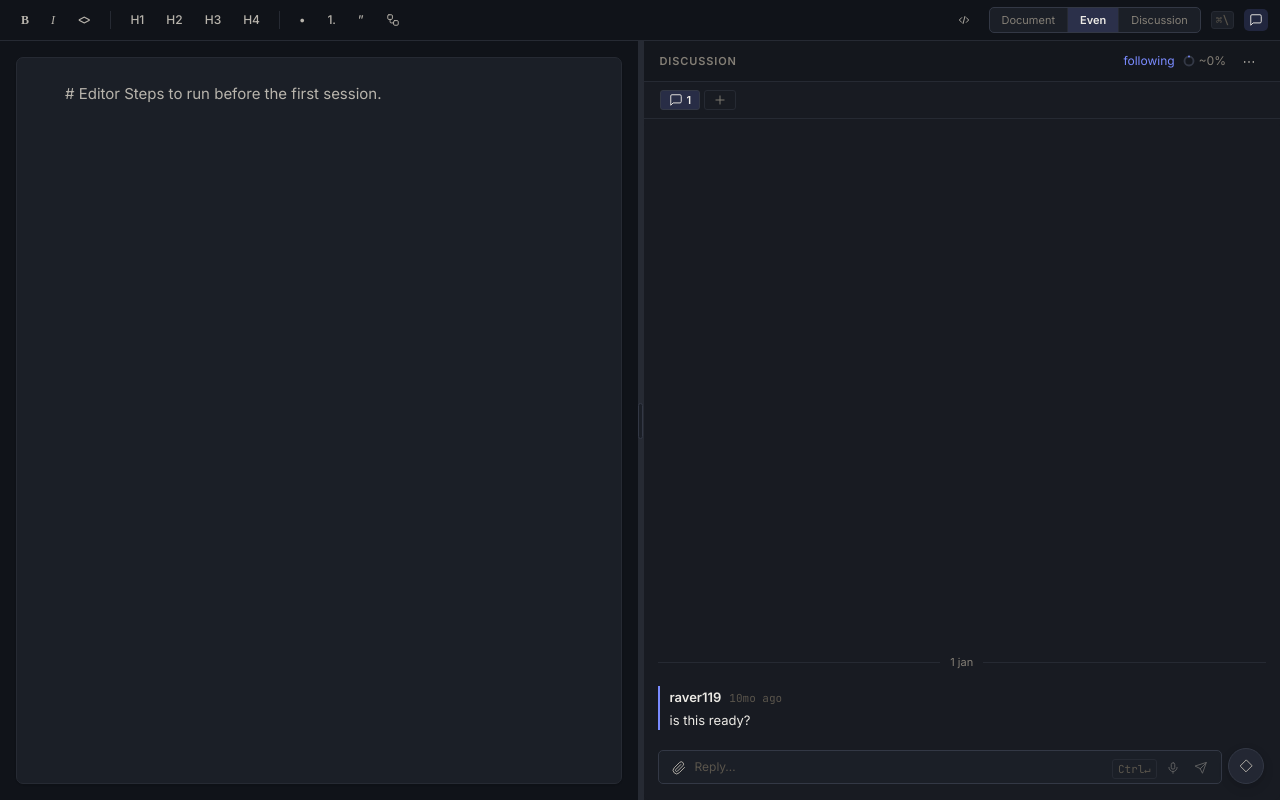
Test: ACT-FR-BRZK: Discuss acts on the discussion column › ACT-FR-BRZK, DDS-FR-JWNC: with a discussion, Discuss puts the caret in its reply composer
Expected: the button named "Actions" is shown, 1228,748 -> 1264,784
Expected: the element with test id "comment-thread-d1" is shown, 644,119 -> 1279,799
Step 1. Click the button with test id "editor-discussion-toggle" → (1256, 20), box 1244,9 -> 1268,31
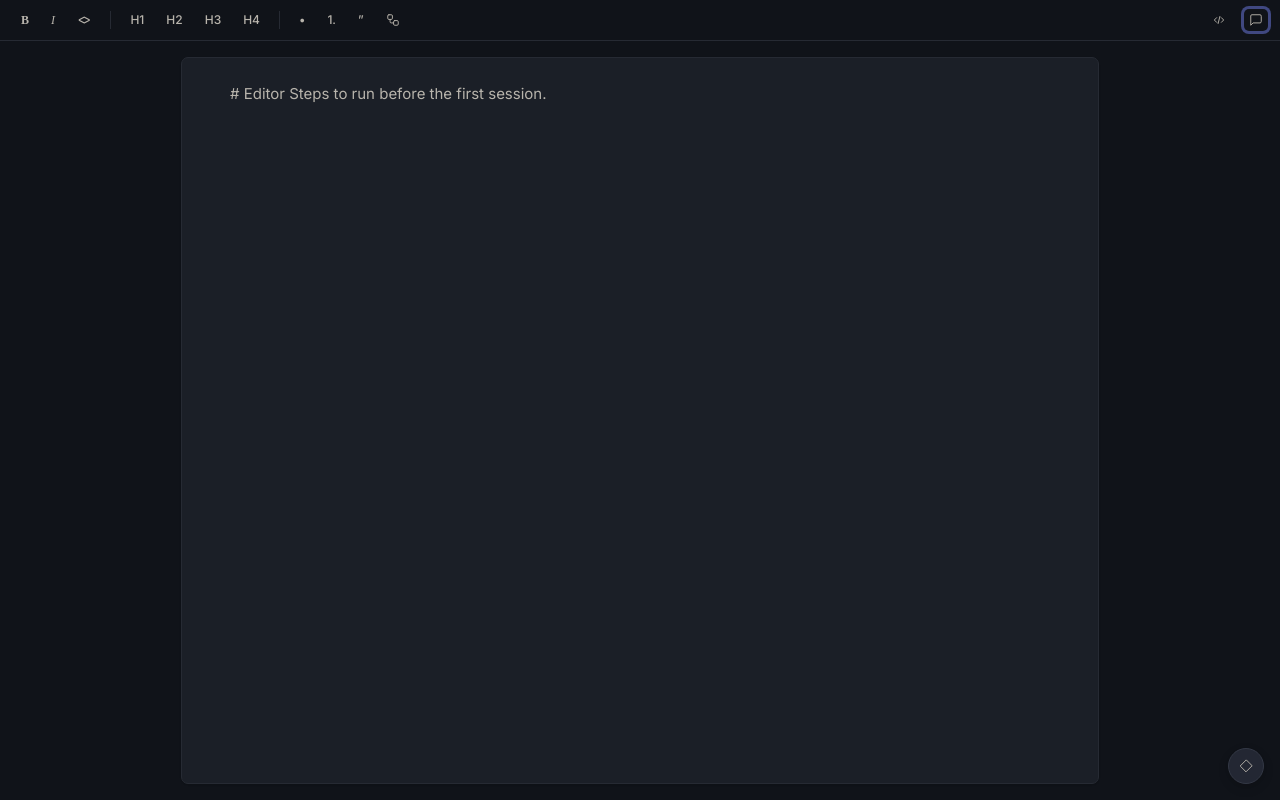
Result: the element with test id "editor-discussion-column" is gone
Step 2. Click the button named "Actions" → (1246, 766), box 1228,748 -> 1264,784
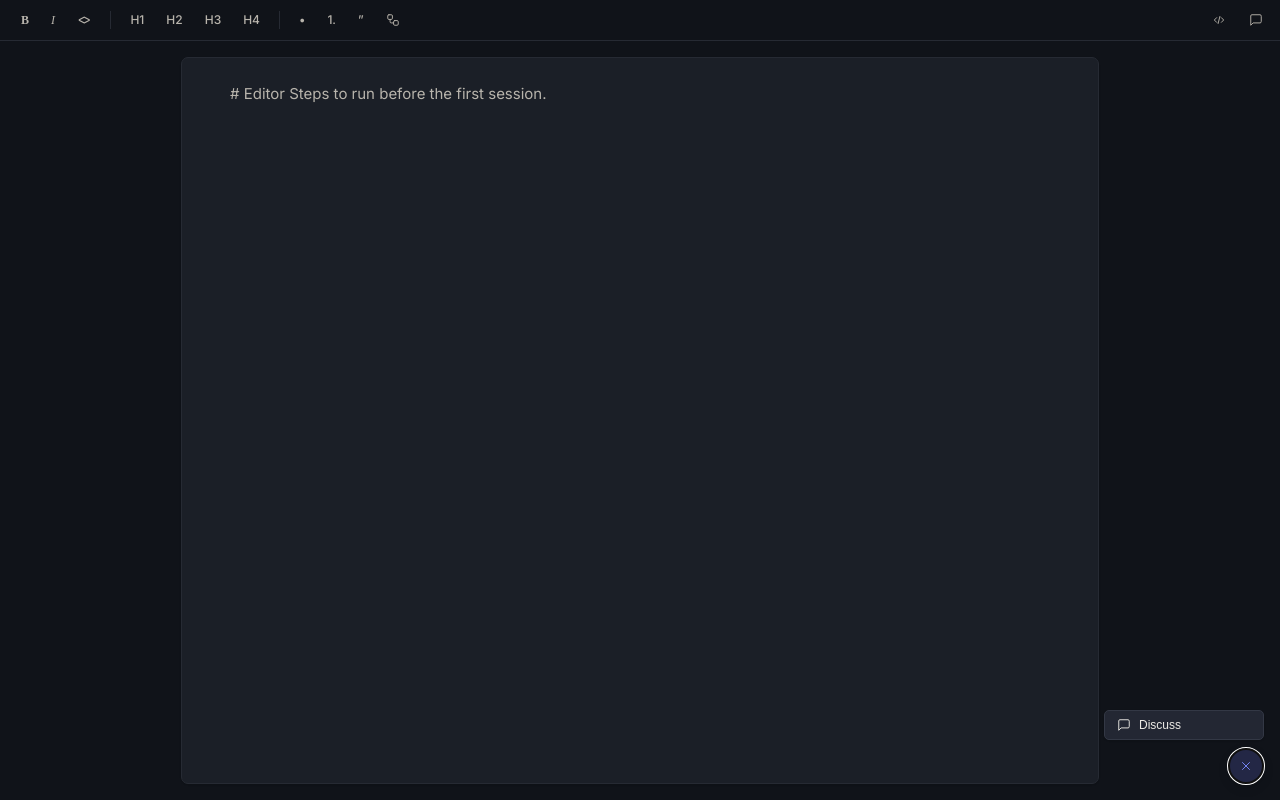
Step 3. Click the menu item "Discuss" → (1184, 725), box 1104,710 -> 1264,740
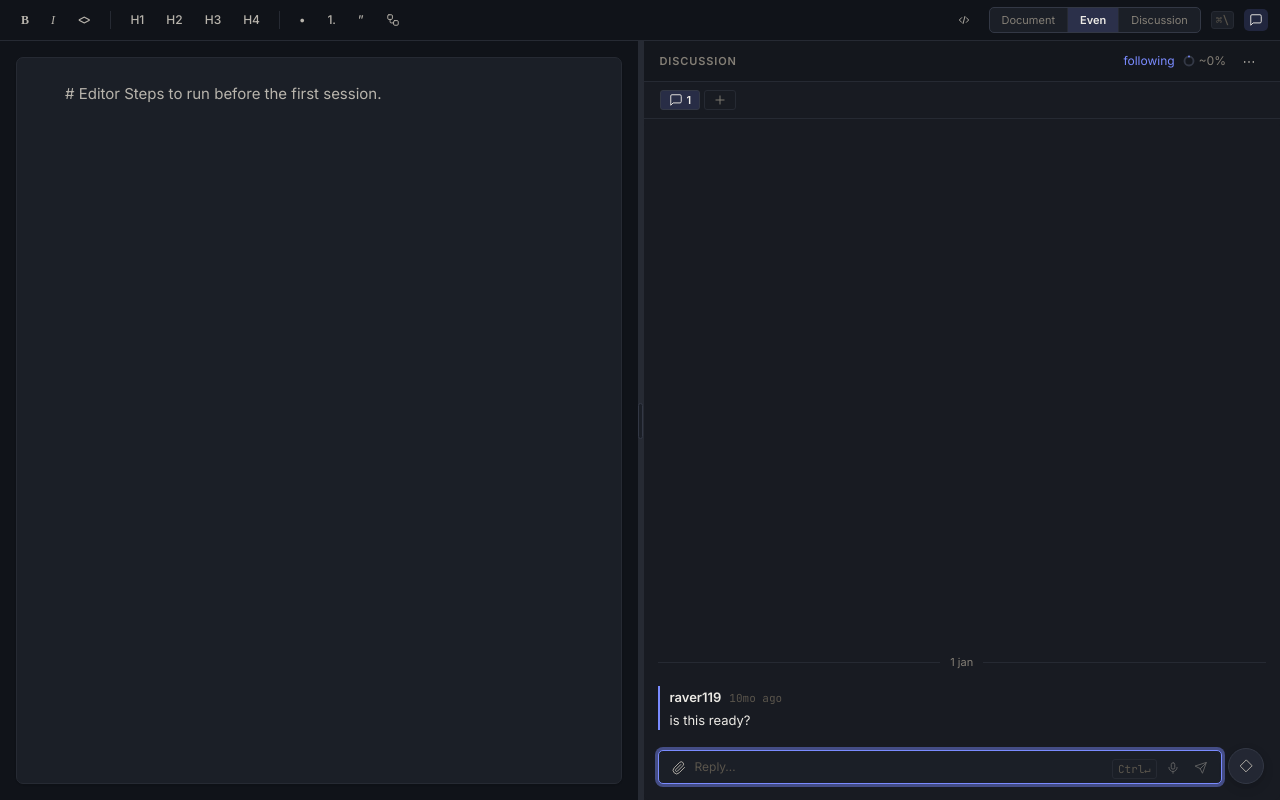
Result: the element with test id "editor-discussion-column" is shown at 642,41 -> 1279,799
